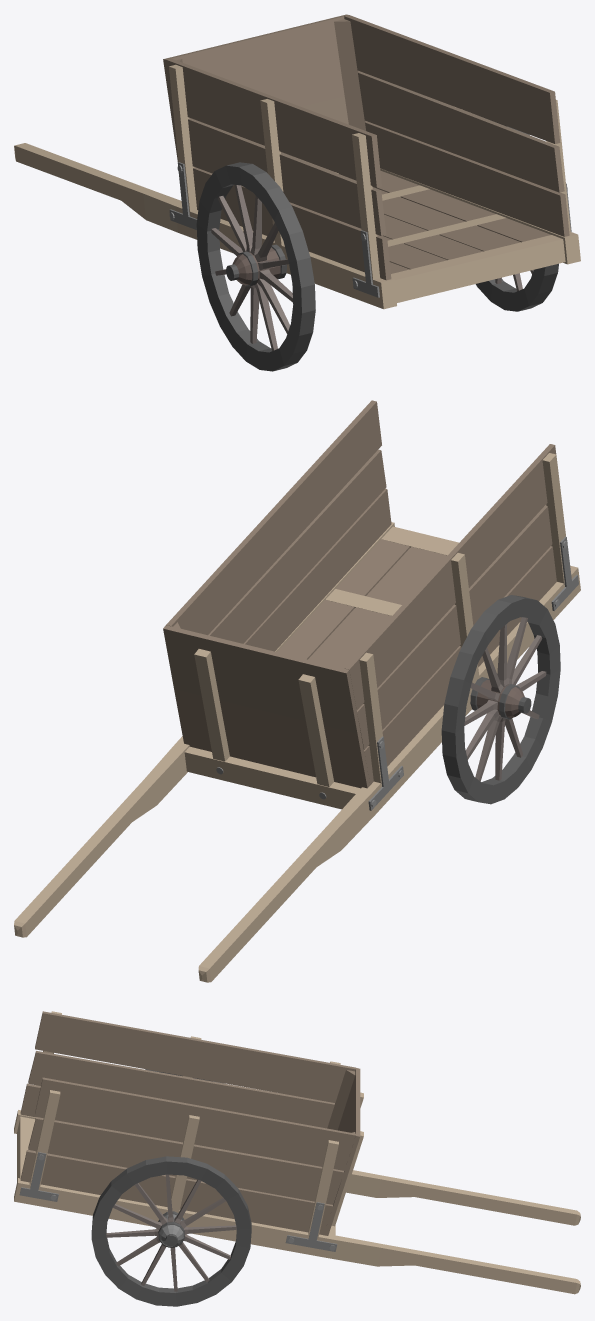
File: HandCart_01.gltf
The picture shows the model from 3 angles, top to bottom: view 1: azimuth 30°, elevation 25°; view 2: azimuth 150°, elevation 25°; view 3: azimuth 270°, elevation 25°; orthographic projection. The views are drawn at different scales.
Visible parts, largest first — view 1: SM_StylizedFarm_HandCart_01; view 2: SM_StylizedFarm_HandCart_01; view 3: SM_StylizedFarm_HandCart_01.
Part boxes in pixels (x1=…): SM_StylizedFarm_HandCart_01: x1=14, y1=14, x2=580, y2=371; SM_StylizedFarm_HandCart_01: x1=14, y1=400, x2=580, y2=982; SM_StylizedFarm_HandCart_01: x1=14, y1=1011, x2=580, y2=1306.
Size of the model in its own units: 1.69 by 1.52 by 3.67.
1 material, 1 textured.
